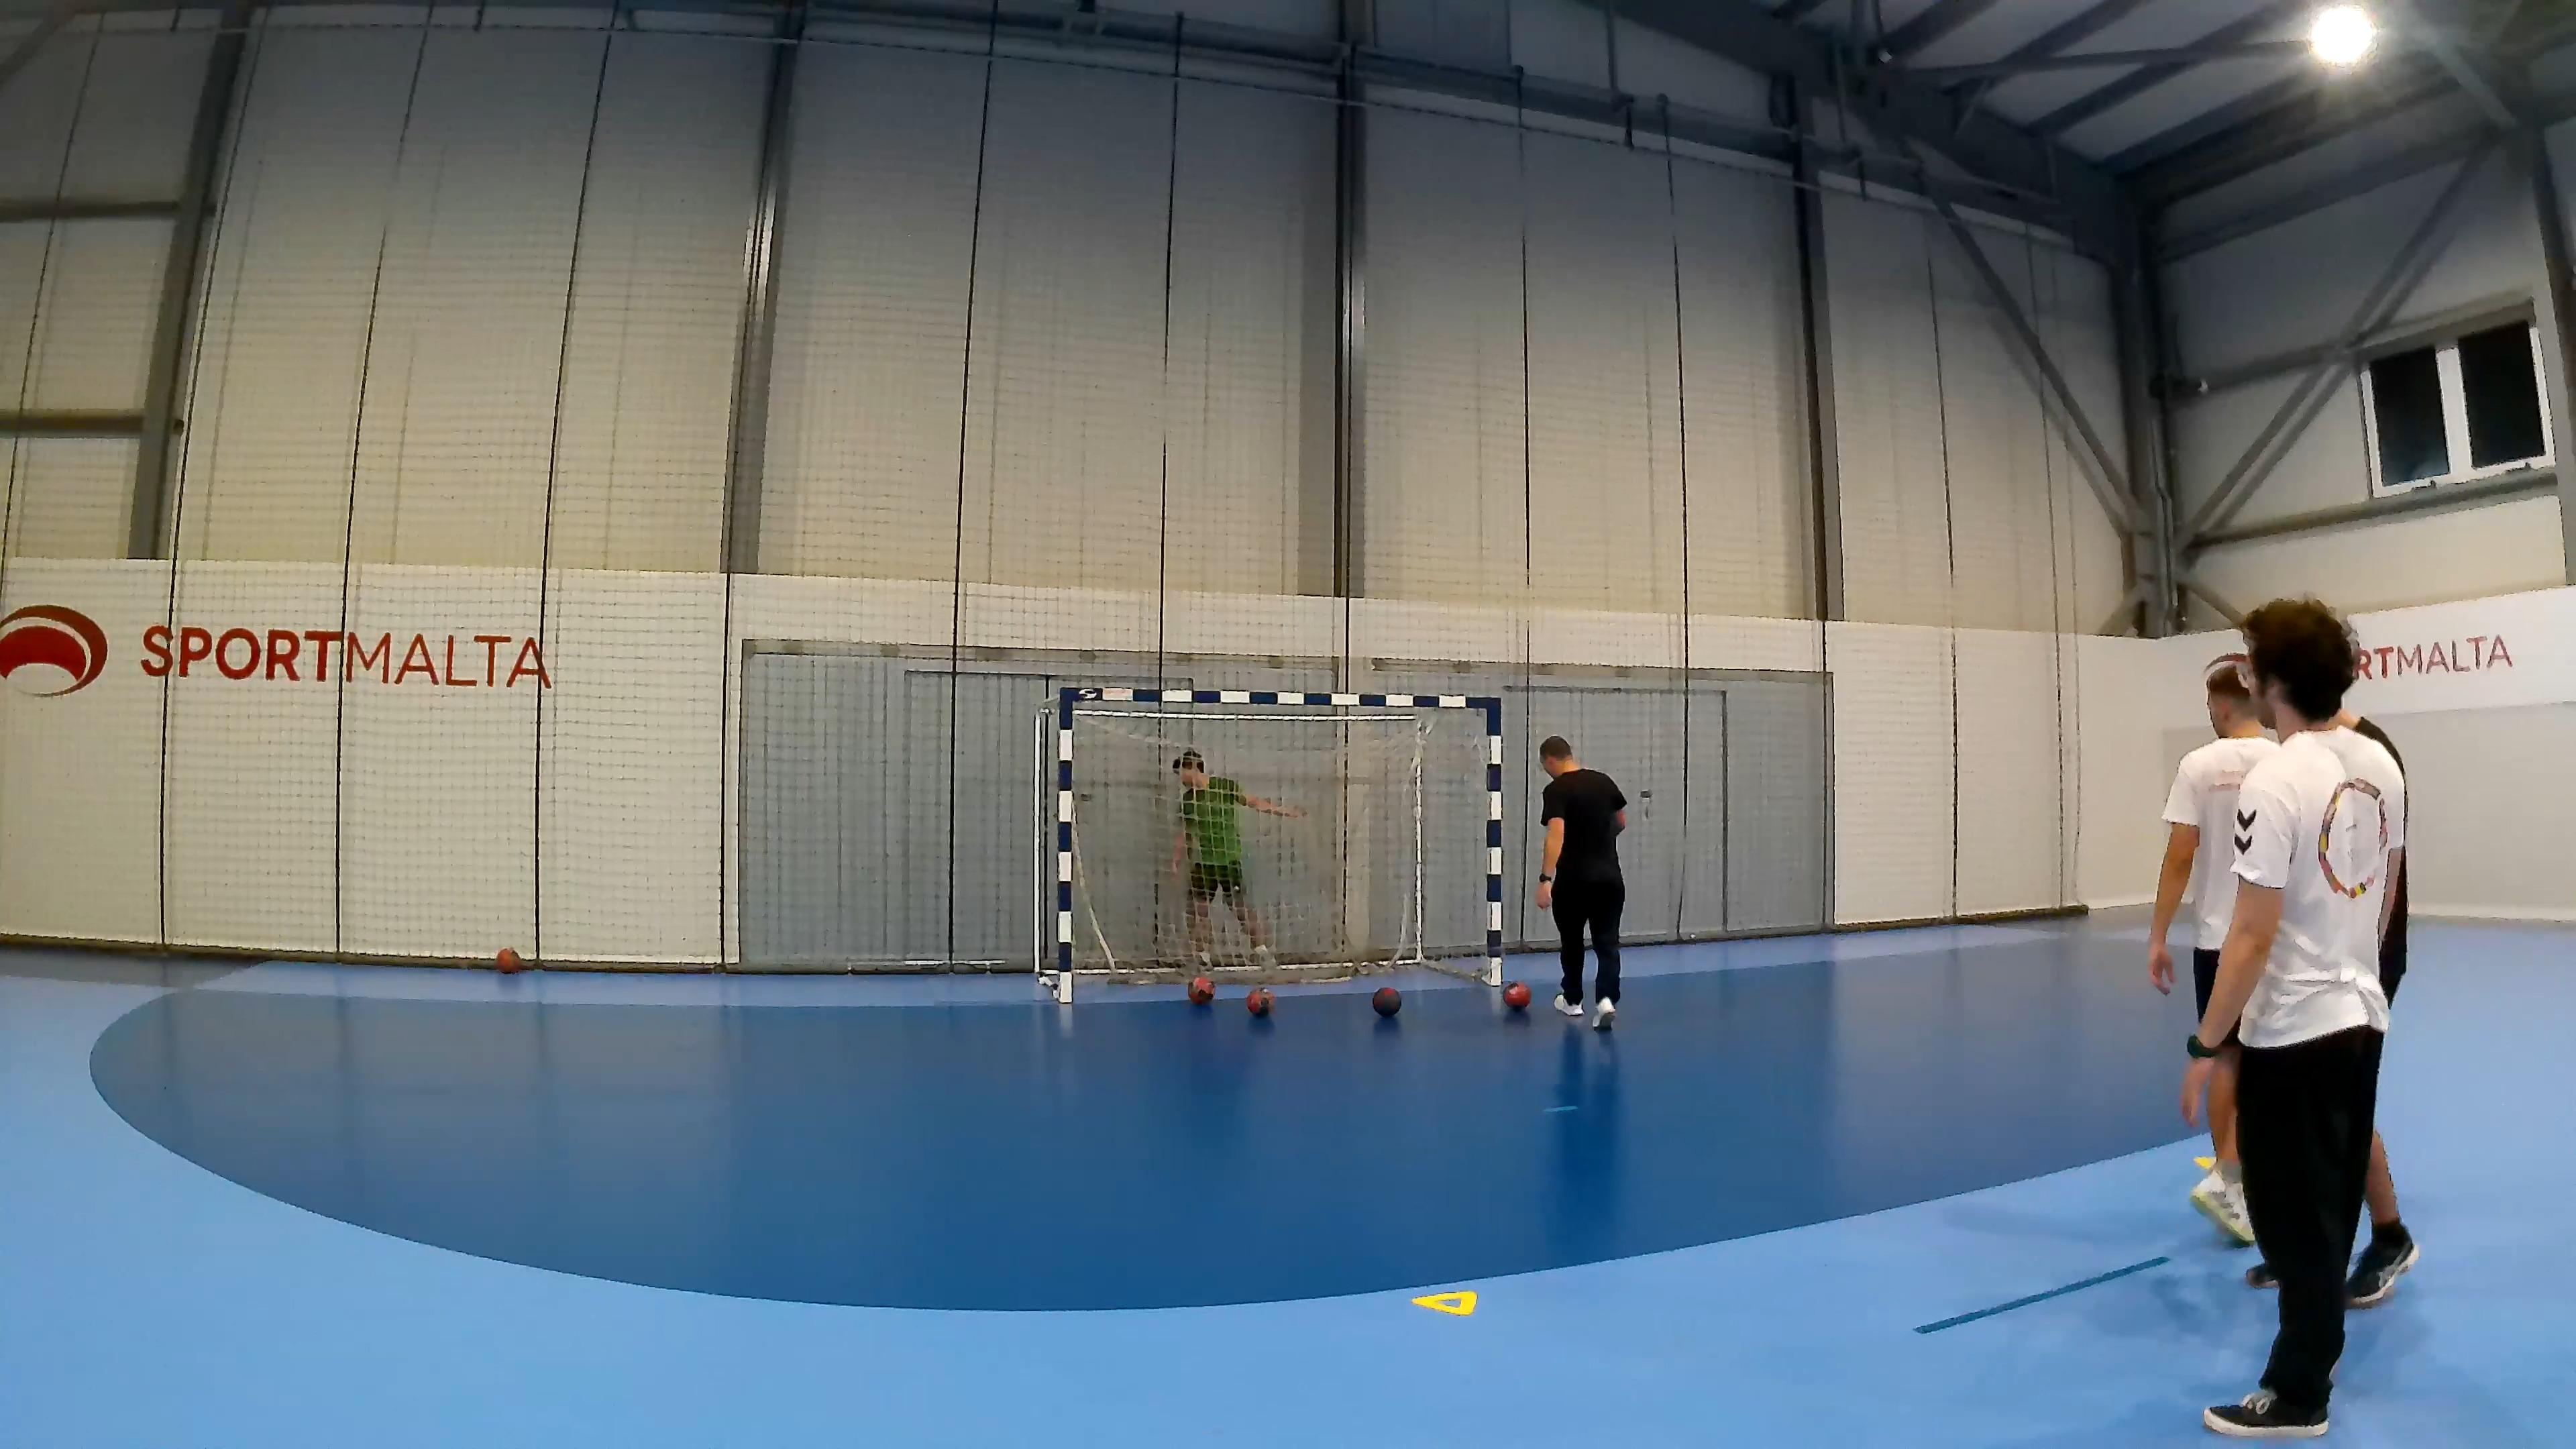handball: (1371, 985, 1401, 1016), (1246, 987, 1272, 1016), (1187, 975, 1214, 1003)
